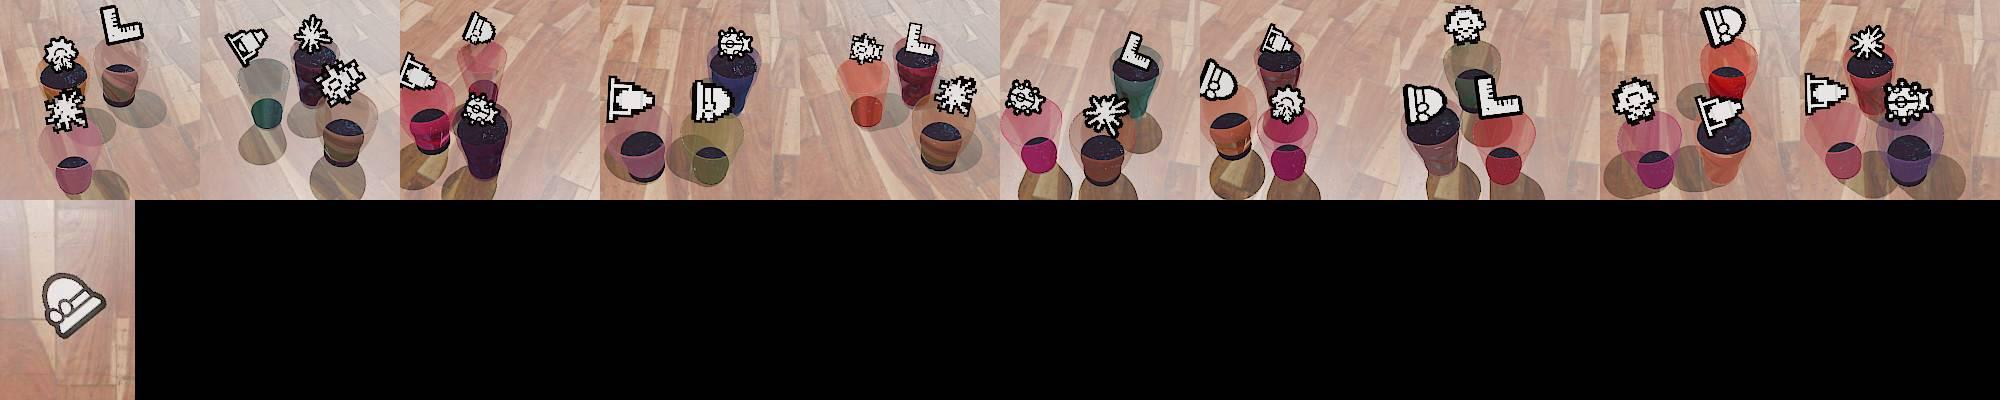icon: (38, 273, 106, 341), (1881, 75, 1936, 124), (316, 57, 367, 107), (605, 75, 657, 124), (1611, 76, 1659, 124), (1473, 74, 1523, 120), (1694, 93, 1745, 138), (1082, 92, 1130, 138), (42, 89, 89, 135), (1403, 82, 1449, 129), (1699, 5, 1746, 50), (934, 73, 980, 117), (690, 78, 735, 124), (1804, 73, 1851, 116), (223, 27, 269, 69), (1443, 4, 1487, 46), (98, 5, 144, 46), (293, 13, 334, 56), (1005, 76, 1046, 117), (399, 51, 439, 93), (1199, 57, 1237, 101), (1267, 85, 1307, 124), (1848, 24, 1889, 61), (901, 22, 937, 60), (42, 34, 80, 70), (462, 10, 497, 47), (717, 25, 755, 60), (460, 92, 500, 125), (1260, 22, 1297, 56), (1119, 29, 1148, 70), (848, 32, 884, 65)
